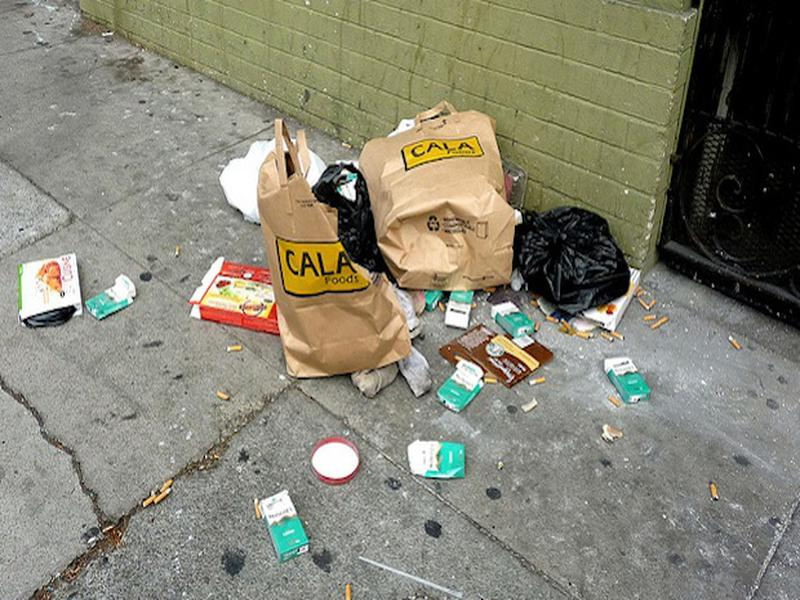cardboard: (185, 255, 284, 335), (15, 251, 86, 328), (255, 488, 318, 564), (597, 354, 657, 407), (406, 438, 469, 484), (436, 360, 487, 414), (86, 270, 137, 324)
paper: (252, 148, 416, 379), (353, 103, 521, 296)
plastic: (513, 210, 633, 315), (309, 161, 394, 274)
